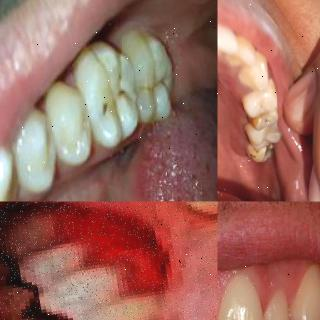Gum Swelling: (44, 208, 162, 293)
cavities: (87, 74, 137, 128)
maligned: (286, 262, 320, 320)
stains: (244, 145, 264, 165), (245, 111, 262, 132)
